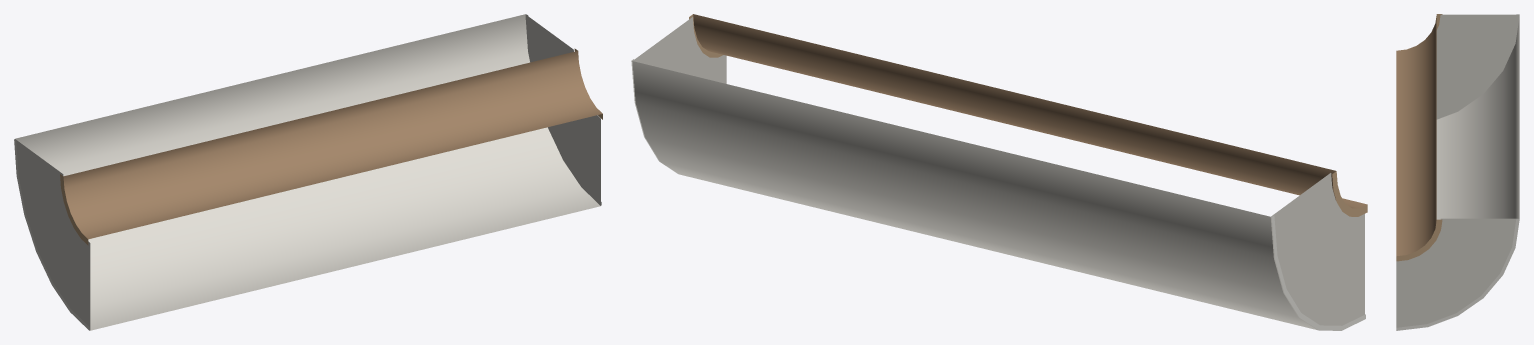
Rendered from 09_paper_towel_roll_h.glb.
The picture shows the model from 3 angles, left to right: view 1: azimuth 30°, elevation 25°; view 2: azimuth 150°, elevation 25°; view 3: azimuth 270°, elevation 25°; orthographic projection. The views are drawn at different scales.
Visible parts, largest first — view 1: rolled_paper_outer_wrap, cardboard_core_interior, paper_layers_left, paper_layers_right, outer_edge_layer; view 2: rolled_paper_outer_wrap, cardboard_core_interior, paper_layers_left, paper_layers_right, outer_edge_layer; view 3: rolled_paper_outer_wrap, paper_layers_right, cardboard_core_interior, paper_layers_left, outer_edge_layer.001, visible_cardboard_tube_right.
Part boxes in pixels (<box>): rolled_paper_outer_wrap: <box>15,14,600,330</box>; cardboard_core_interior: <box>63,51,602,239</box>; paper_layers_left: <box>15,139,90,330</box>; paper_layers_right: <box>525,14,600,205</box>; outer_edge_layer: <box>14,139,89,330</box>; rolled_paper_outer_wrap: <box>632,61,1316,329</box>; cardboard_core_interior: <box>693,14,1366,208</box>; paper_layers_left: <box>1270,173,1364,329</box>; paper_layers_right: <box>633,17,726,83</box>; outer_edge_layer: <box>1271,215,1365,330</box>; rolled_paper_outer_wrap: <box>1436,17,1519,219</box>; paper_layers_right: <box>1396,218,1519,327</box>; cardboard_core_interior: <box>1396,16,1436,256</box>; paper_layers_left: <box>1436,14,1519,119</box>; outer_edge_layer.001: <box>1396,219,1519,330</box>; visible_cardboard_tube_right: <box>1396,219,1442,261</box>.
Bounding box in the file's own units: 0.252 × 0.064 × 0.064.
